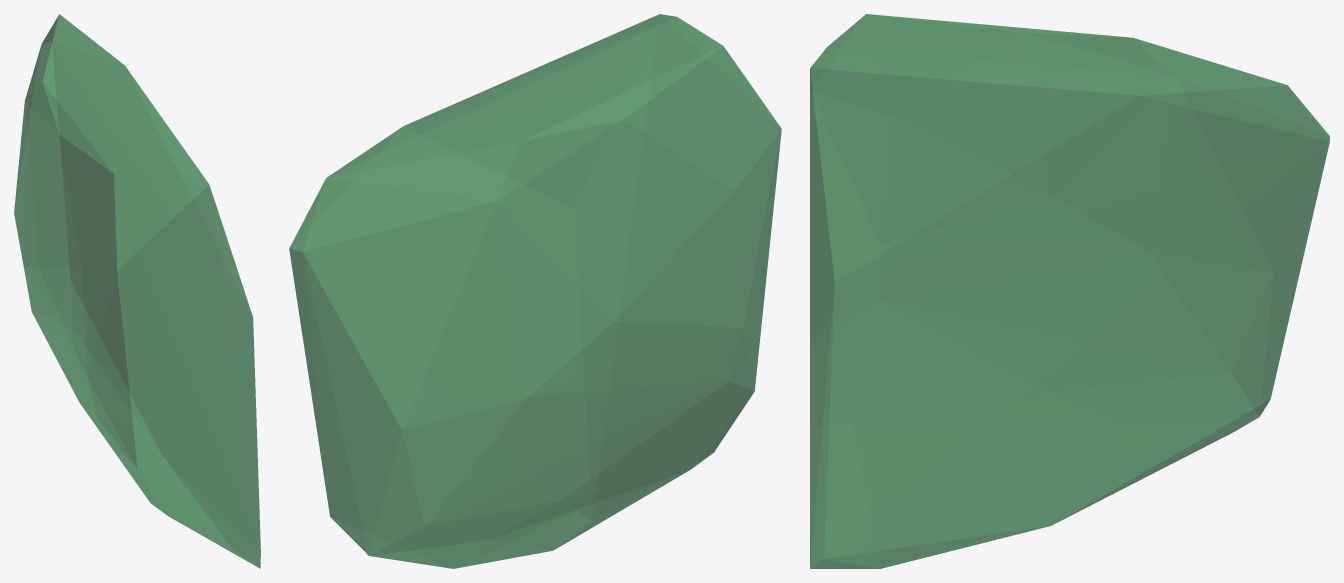
The picture shows the model from 3 angles, left to right: view 1: azimuth 30°, elevation 25°; view 2: azimuth 150°, elevation 25°; view 3: azimuth 270°, elevation 25°; orthographic projection. The views are drawn at different scales.
Parts seen in each view (by area): view 1: Shape_IndexedFaceSet.008_Shape_IndexedFaceSet.3346; view 2: Shape_IndexedFaceSet.008_Shape_IndexedFaceSet.3346; view 3: Shape_IndexedFaceSet.008_Shape_IndexedFaceSet.3346.
Part boxes in pixels (bbox=[...]): Shape_IndexedFaceSet.008_Shape_IndexedFaceSet.3346: bbox=[14, 14, 260, 568]; Shape_IndexedFaceSet.008_Shape_IndexedFaceSet.3346: bbox=[289, 14, 781, 568]; Shape_IndexedFaceSet.008_Shape_IndexedFaceSet.3346: bbox=[810, 14, 1329, 568].
Size of the model in its own units: 0.1243 by 0.3149 by 0.3066.
